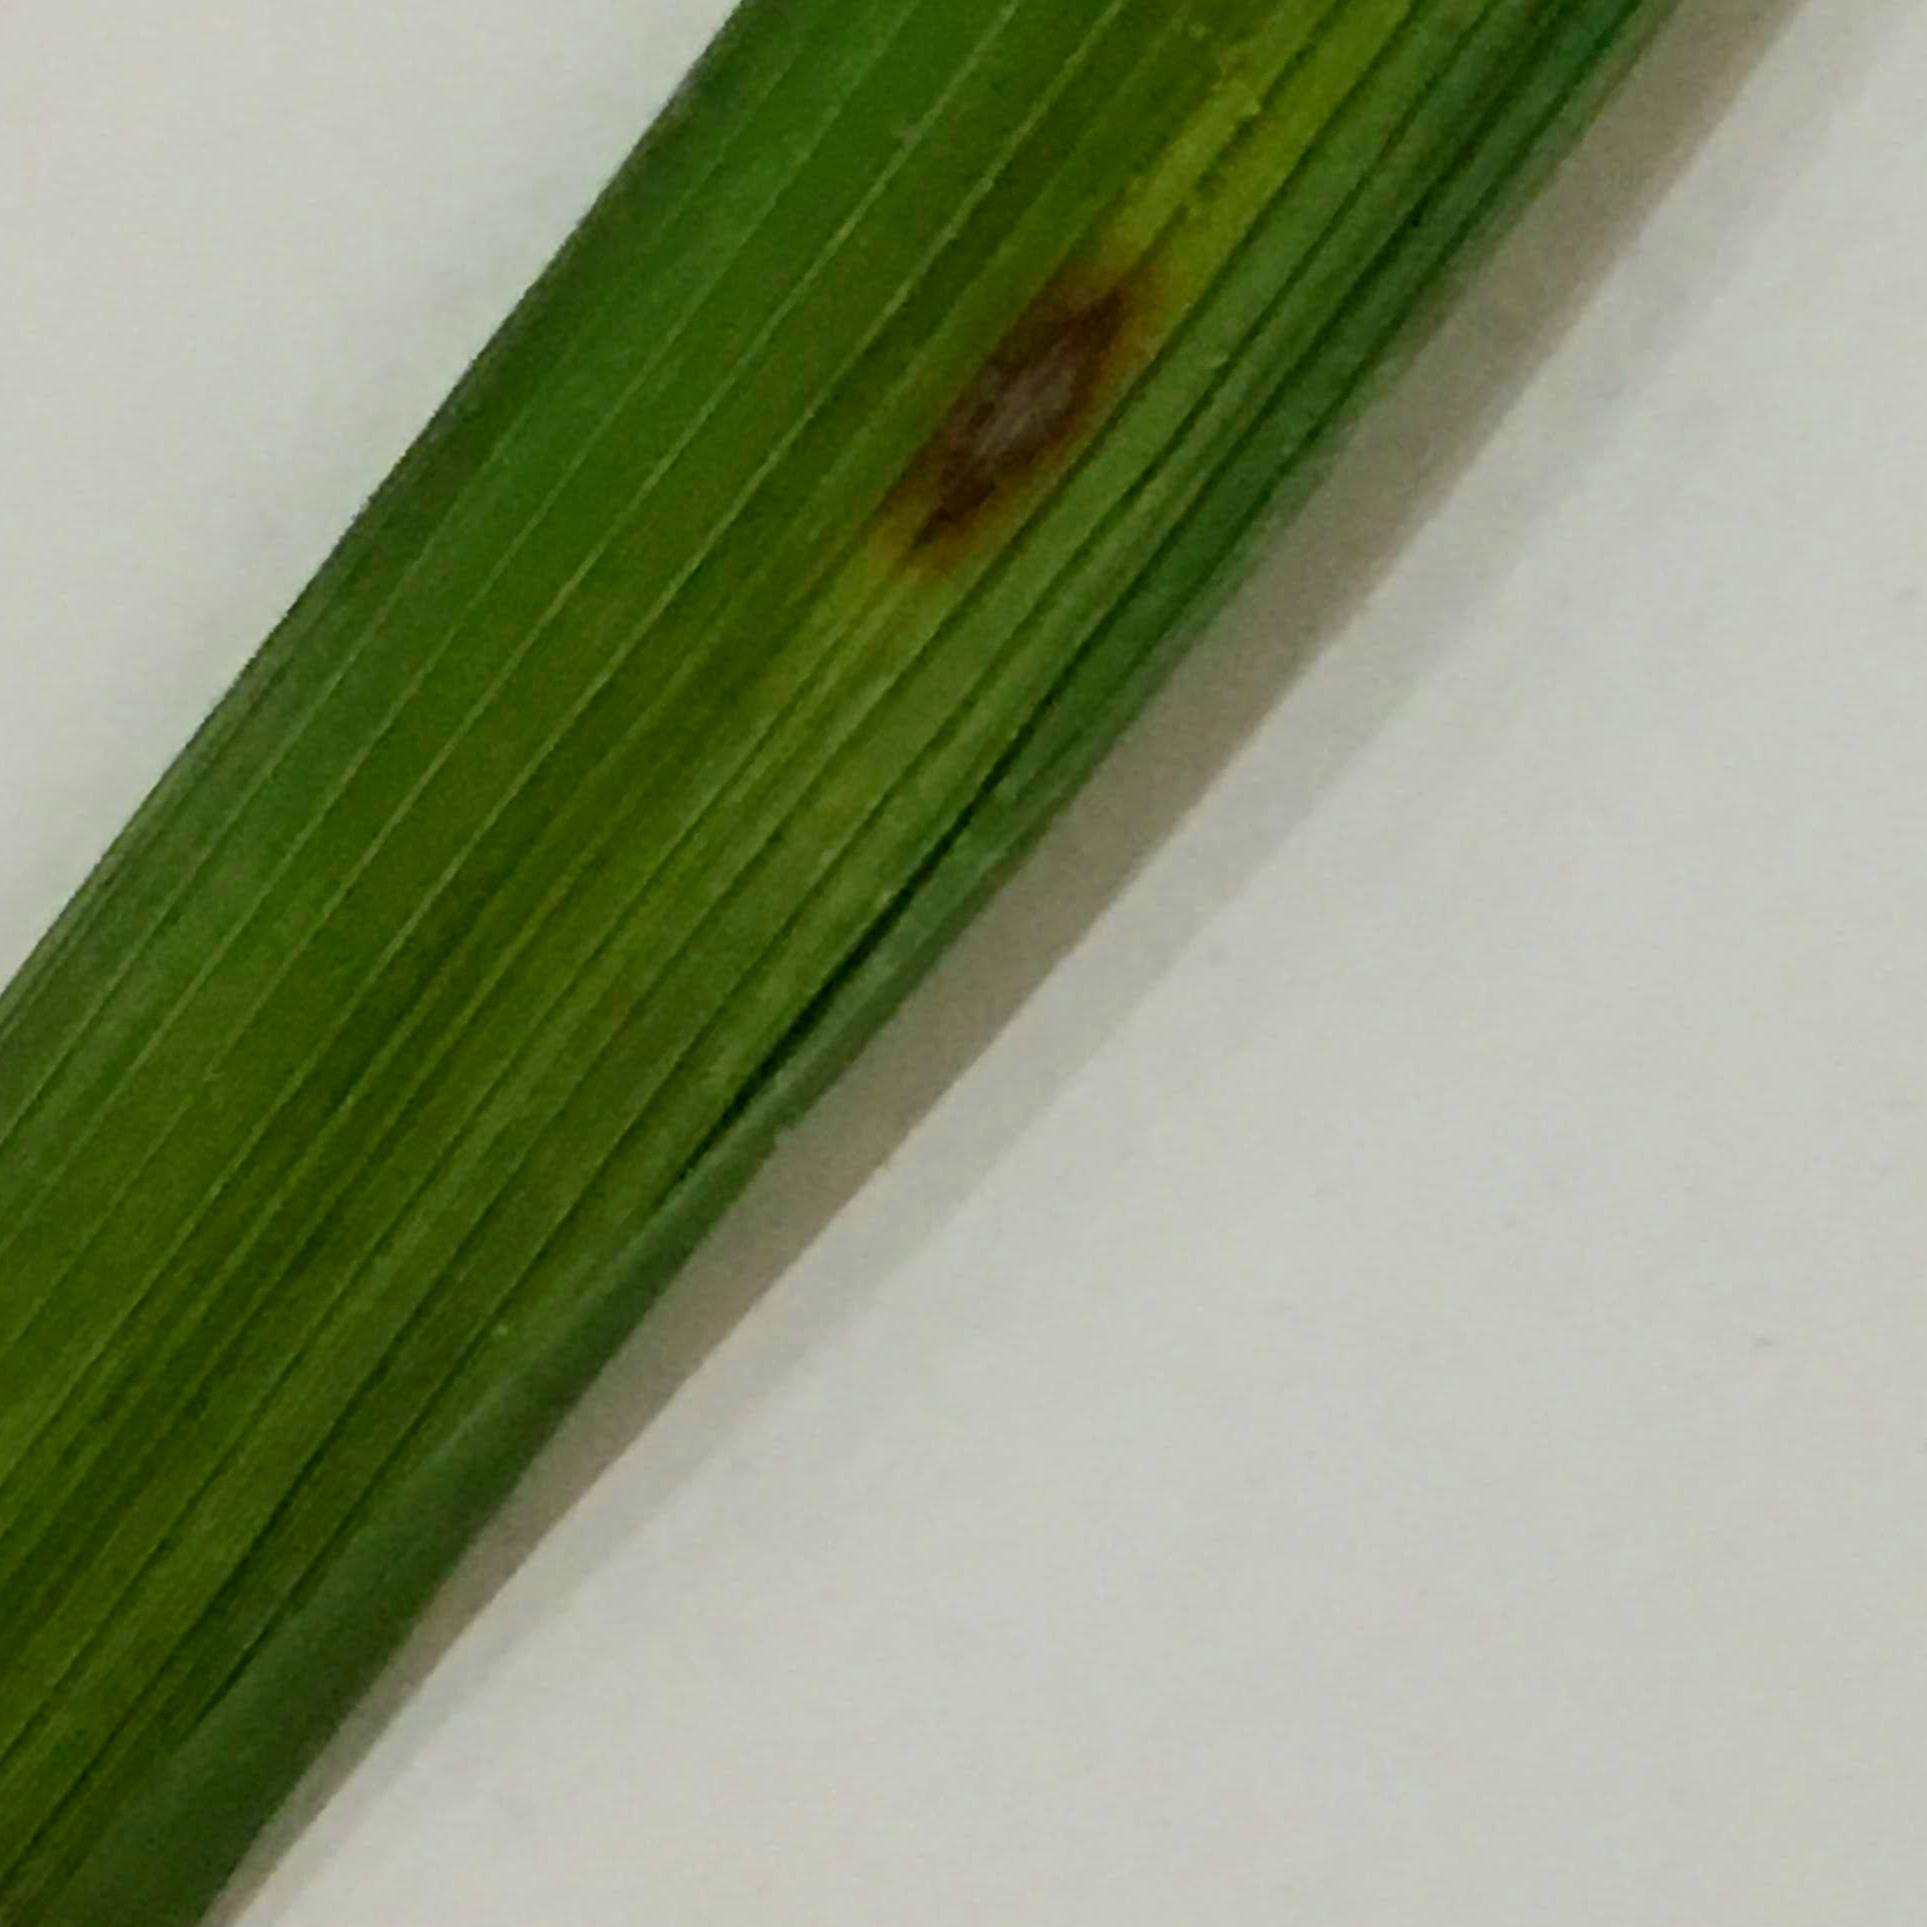1 RiceBlast: (875, 169, 1158, 602)
